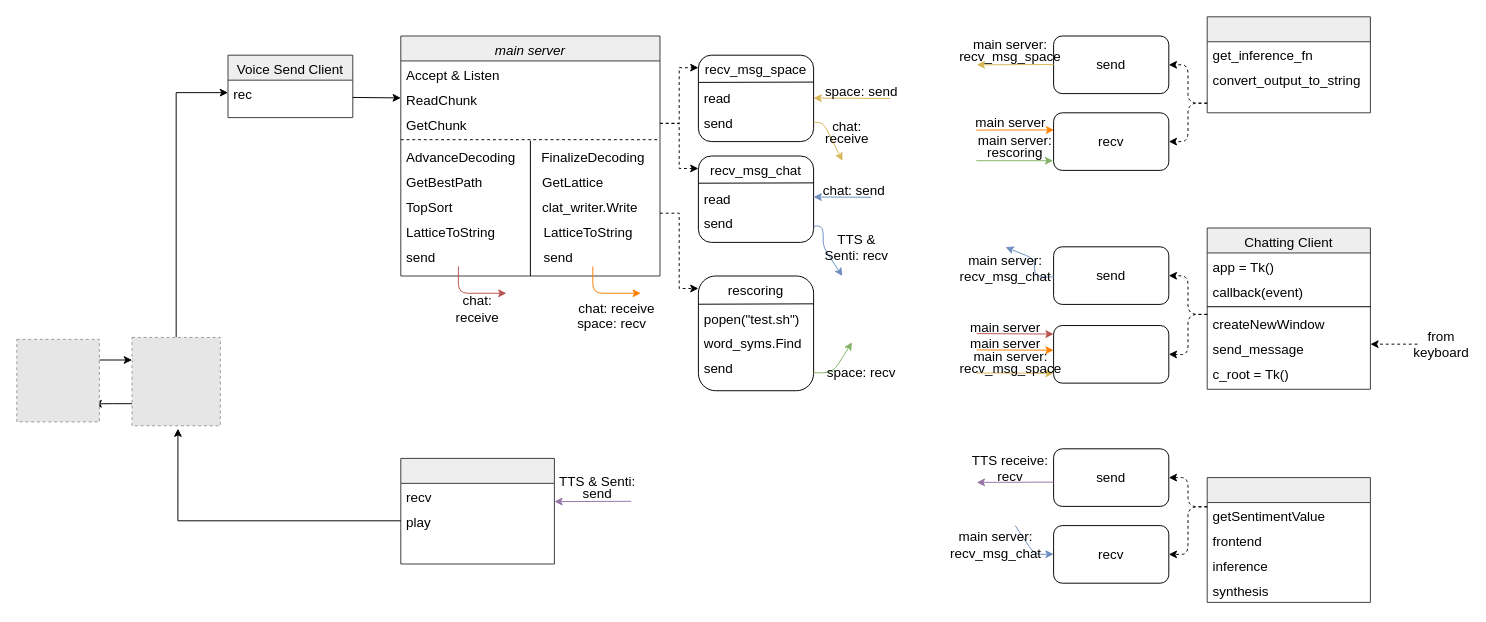
Image size: 1486x622. Some labels were removed from this diagram. Grey dashed boxes stand in for pictures. Each missing label, with the box of its shape:
receive: (1053, 325, 1169, 383)
Spacing Client: (1206, 16, 1370, 113)
TTS & Sentimental server: (1206, 477, 1370, 602)
TTS receive client: (400, 457, 554, 564)
